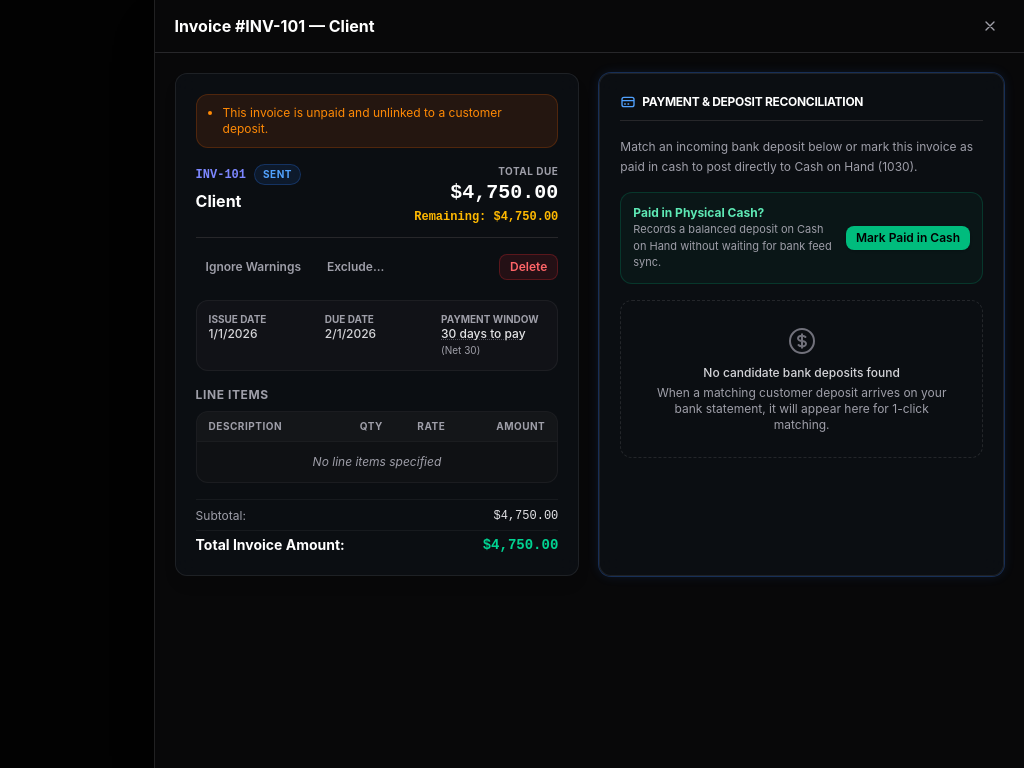
it: ReportsModal Part 2 (A/R Aging, Schedule C, Trial Balance) › renders A/R Aging metrics, buckets, invoice drilldown, recalculation, and empty invoice state
This screenshot has width=1024, height=768.
Earlier steps of the test are not shown.
Later steps or results of the test are not shown.
Expected: the heading "Invoice #INV-101 — Client" is shown, [175,14,375,38]
Click the button named "Close detail drawer" at (990, 26), box [976,12,1004,40]
(page scrolled)
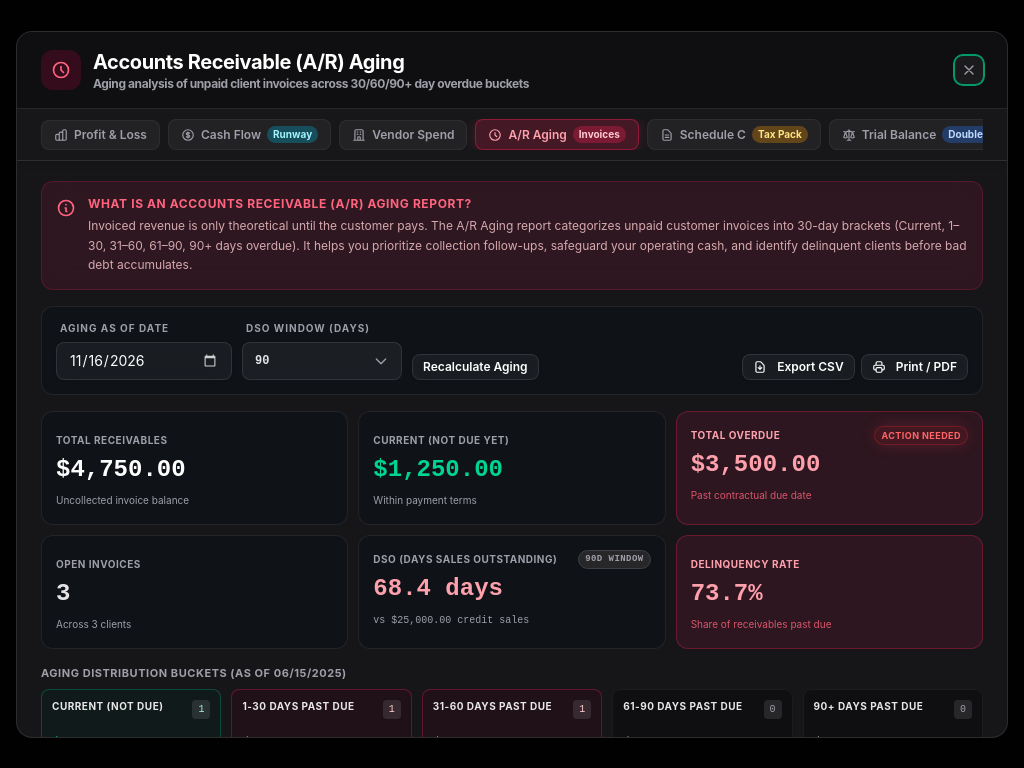
Expected: the heading "Invoice #" is gone
Export CSV & Print
Click the button "Export CSV" at (798, 366), box [742,354,855,380]
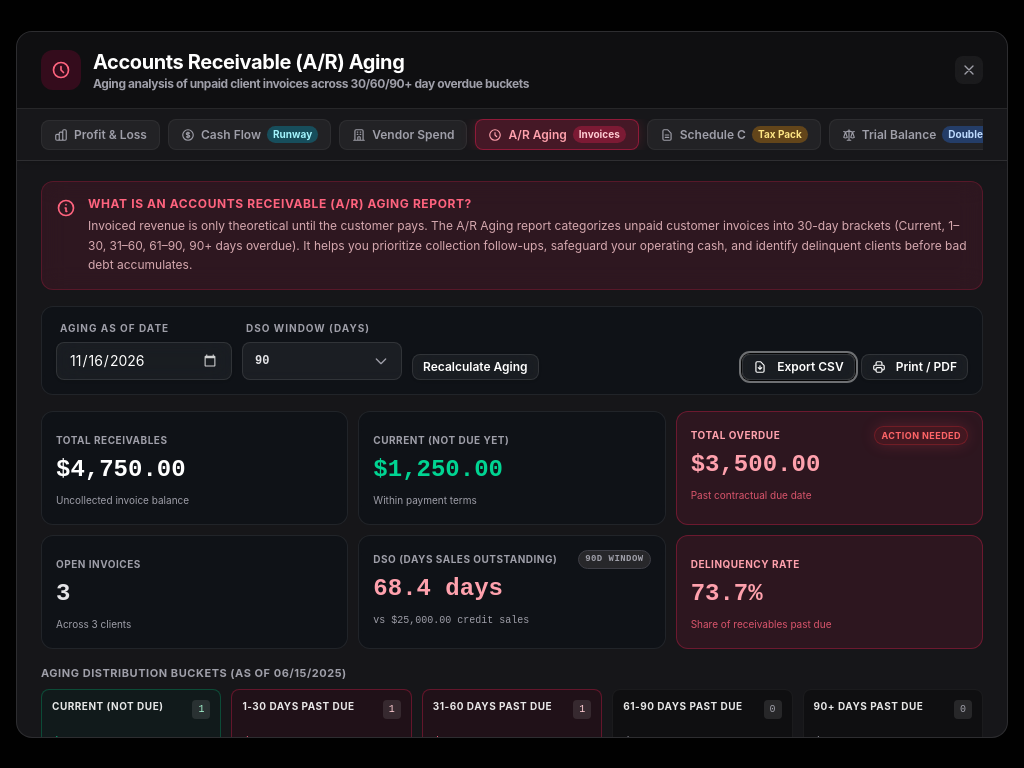
Click the button "Print / PDF" at (914, 366), box [861,354,968,380]
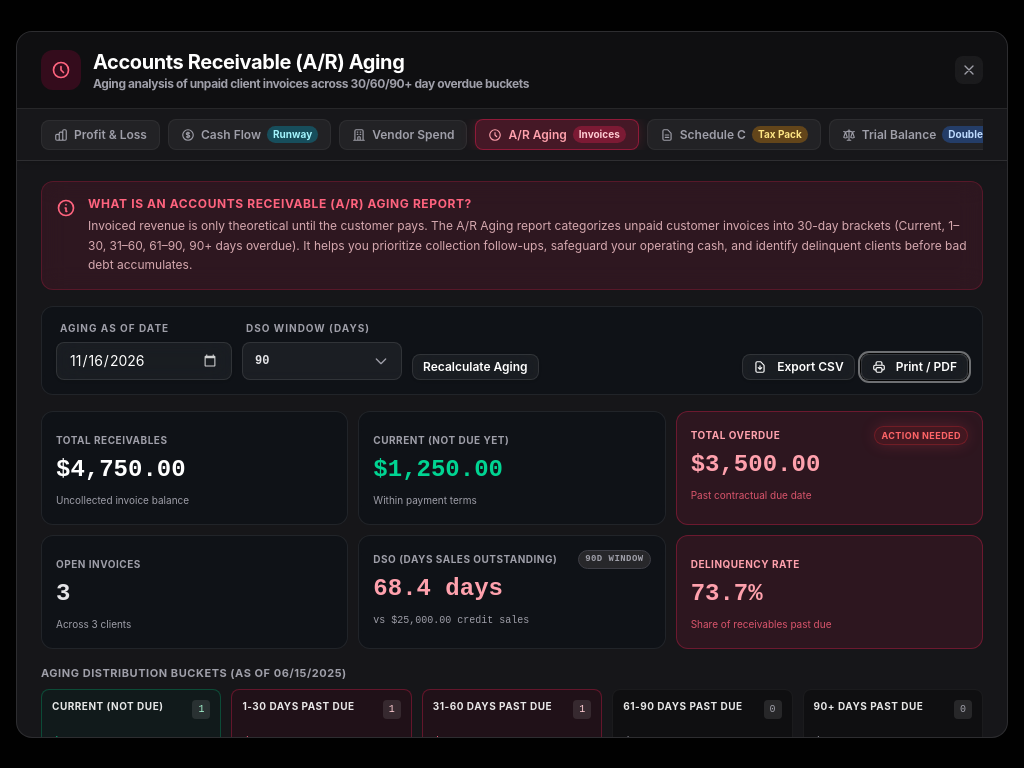
Change As-Of Date & DSO window (using canonical Select primitive) then Recalculate
Type "2025-07-15" into the date field labelled "Aging As Of Date" at (144, 360), box [56,342,232,380]
Click the button named "DSO Window (Days)" at (322, 360), box [242,342,402,380]
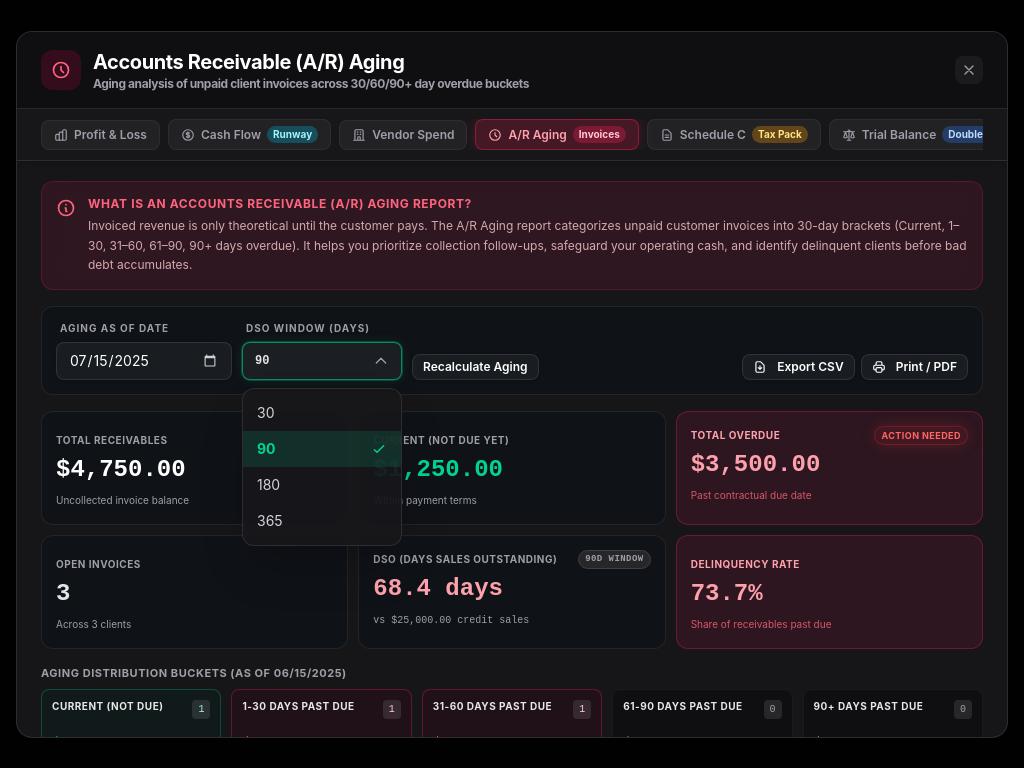
Click the option "365" at (322, 520), box [243,502,401,538]
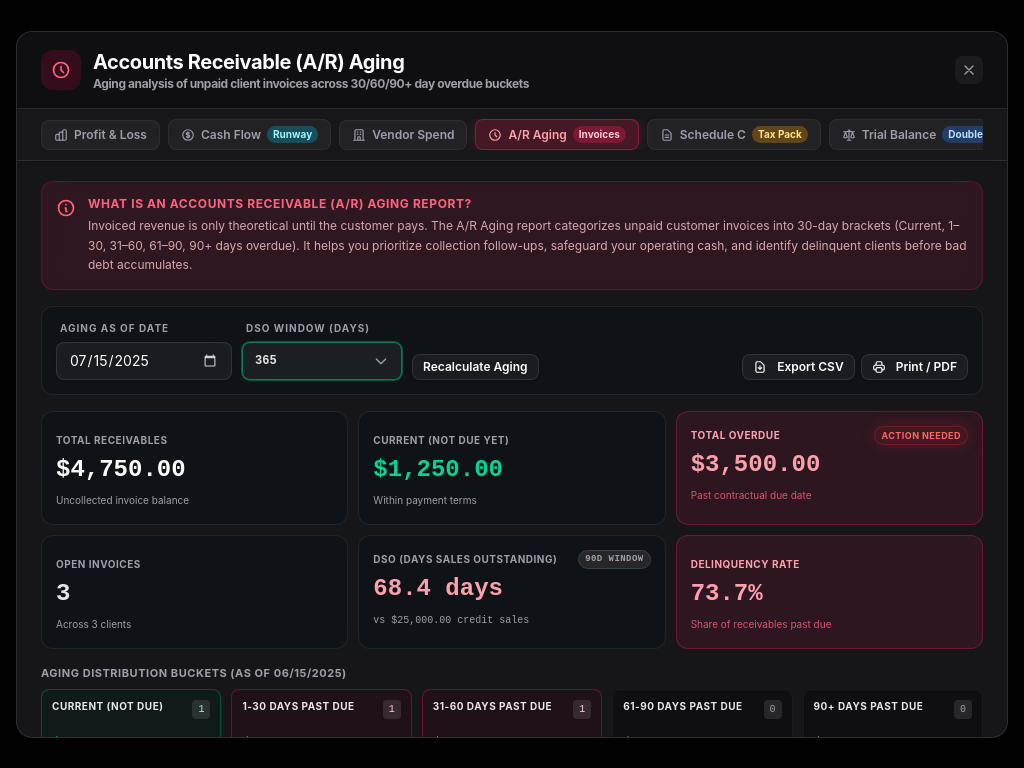
Click the button "Recalculate Aging" at (475, 366), box [412,354,539,380]
(page scrolled)
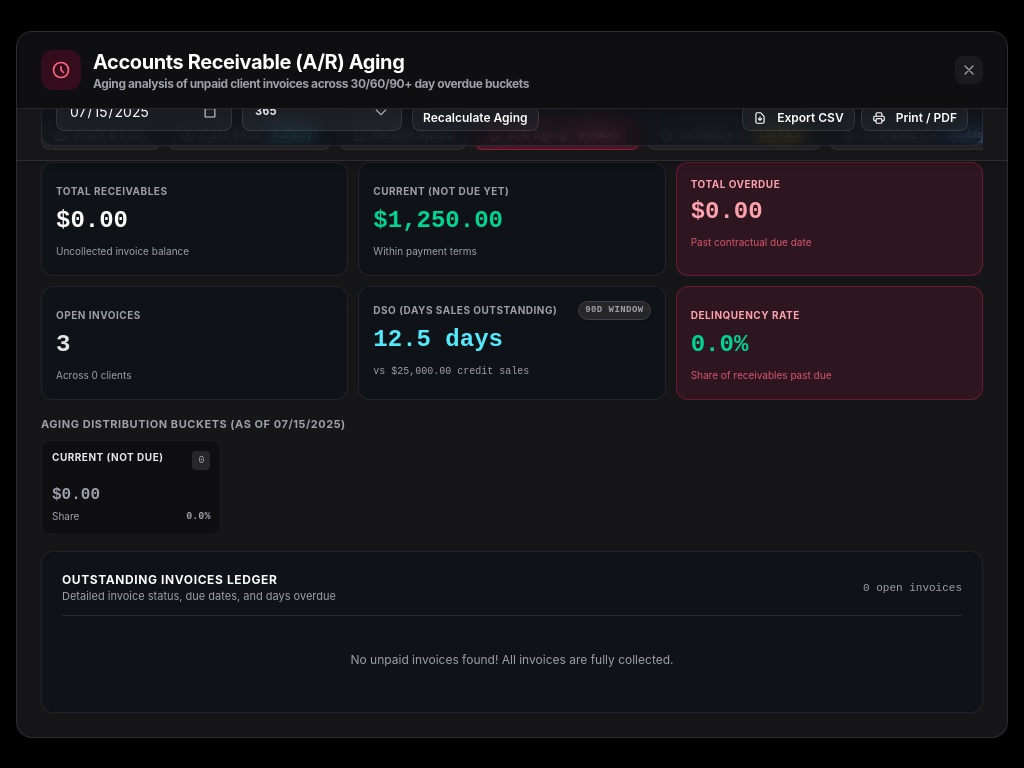
Expected: the text "No unpaid invoices found! All invoices are fully collected." is shown, [350,652,674,666]
